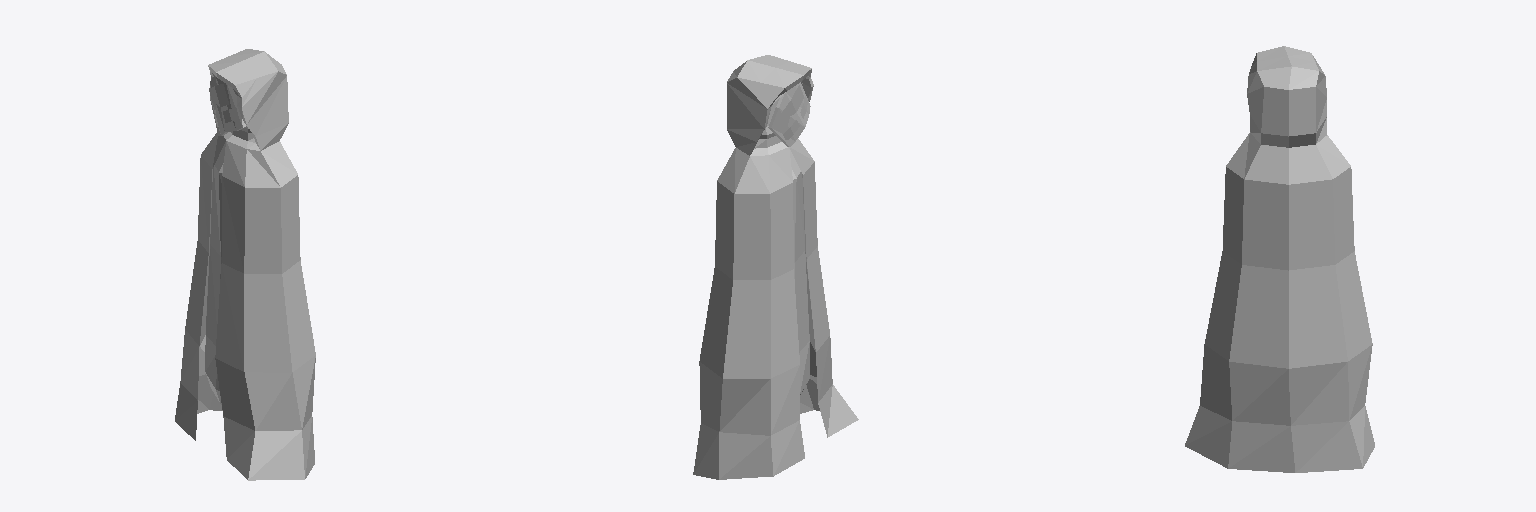
File: fr_him.obj
The picture shows the model from 3 angles: view 1: azimuth 30°, elevation 25°; view 2: azimuth 150°, elevation 25°; view 3: azimuth 270°, elevation 25°; orthographic projection.
Visible parts, largest first — view 1: body, Mask; view 2: body, Mask; view 3: body.
Part boxes in pixels (bbox=[...]): body: bbox=[175, 49, 315, 480]; Mask: bbox=[210, 76, 245, 135]; body: bbox=[693, 55, 858, 479]; Mask: bbox=[768, 82, 810, 146]; body: bbox=[1185, 46, 1374, 472].
Size of the model in its own units: 0.6272 by 2.39 by 1.05.